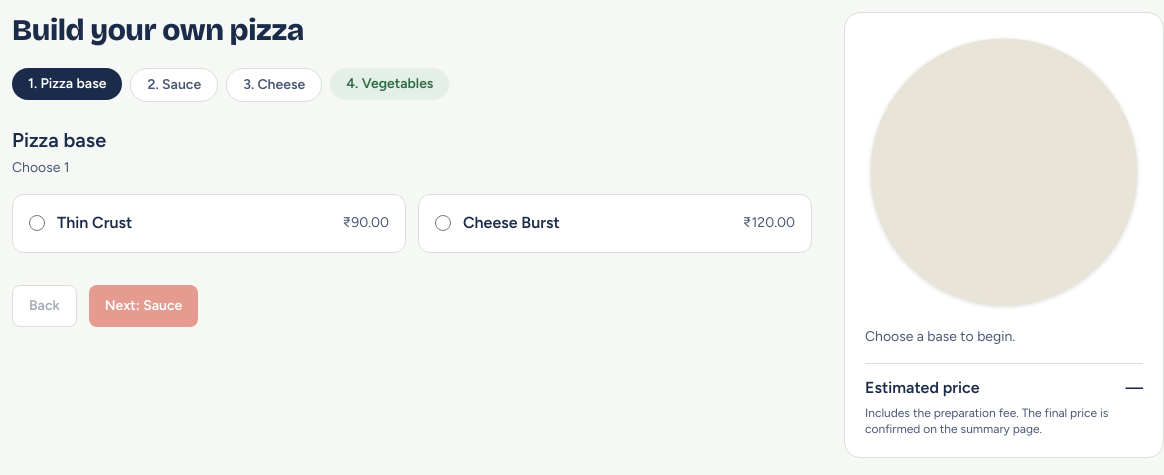
Scenario: pizza builder › blocks Next until the required choice is made
This screenshot has width=1164, height=475.
Check: the button "Next: Sauce" is disabled, box [89, 285, 198, 327]
Click the radio button labelled "Thin Crust ₹90.00": [37, 223] box [29, 215, 45, 231]
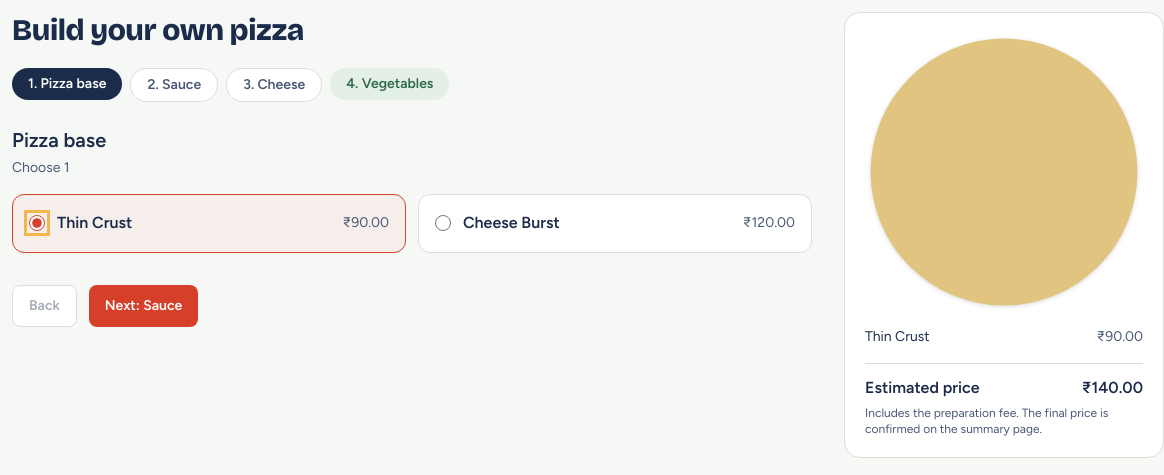
Check: the button "Next: Sauce" is enabled, box [89, 285, 198, 327]
